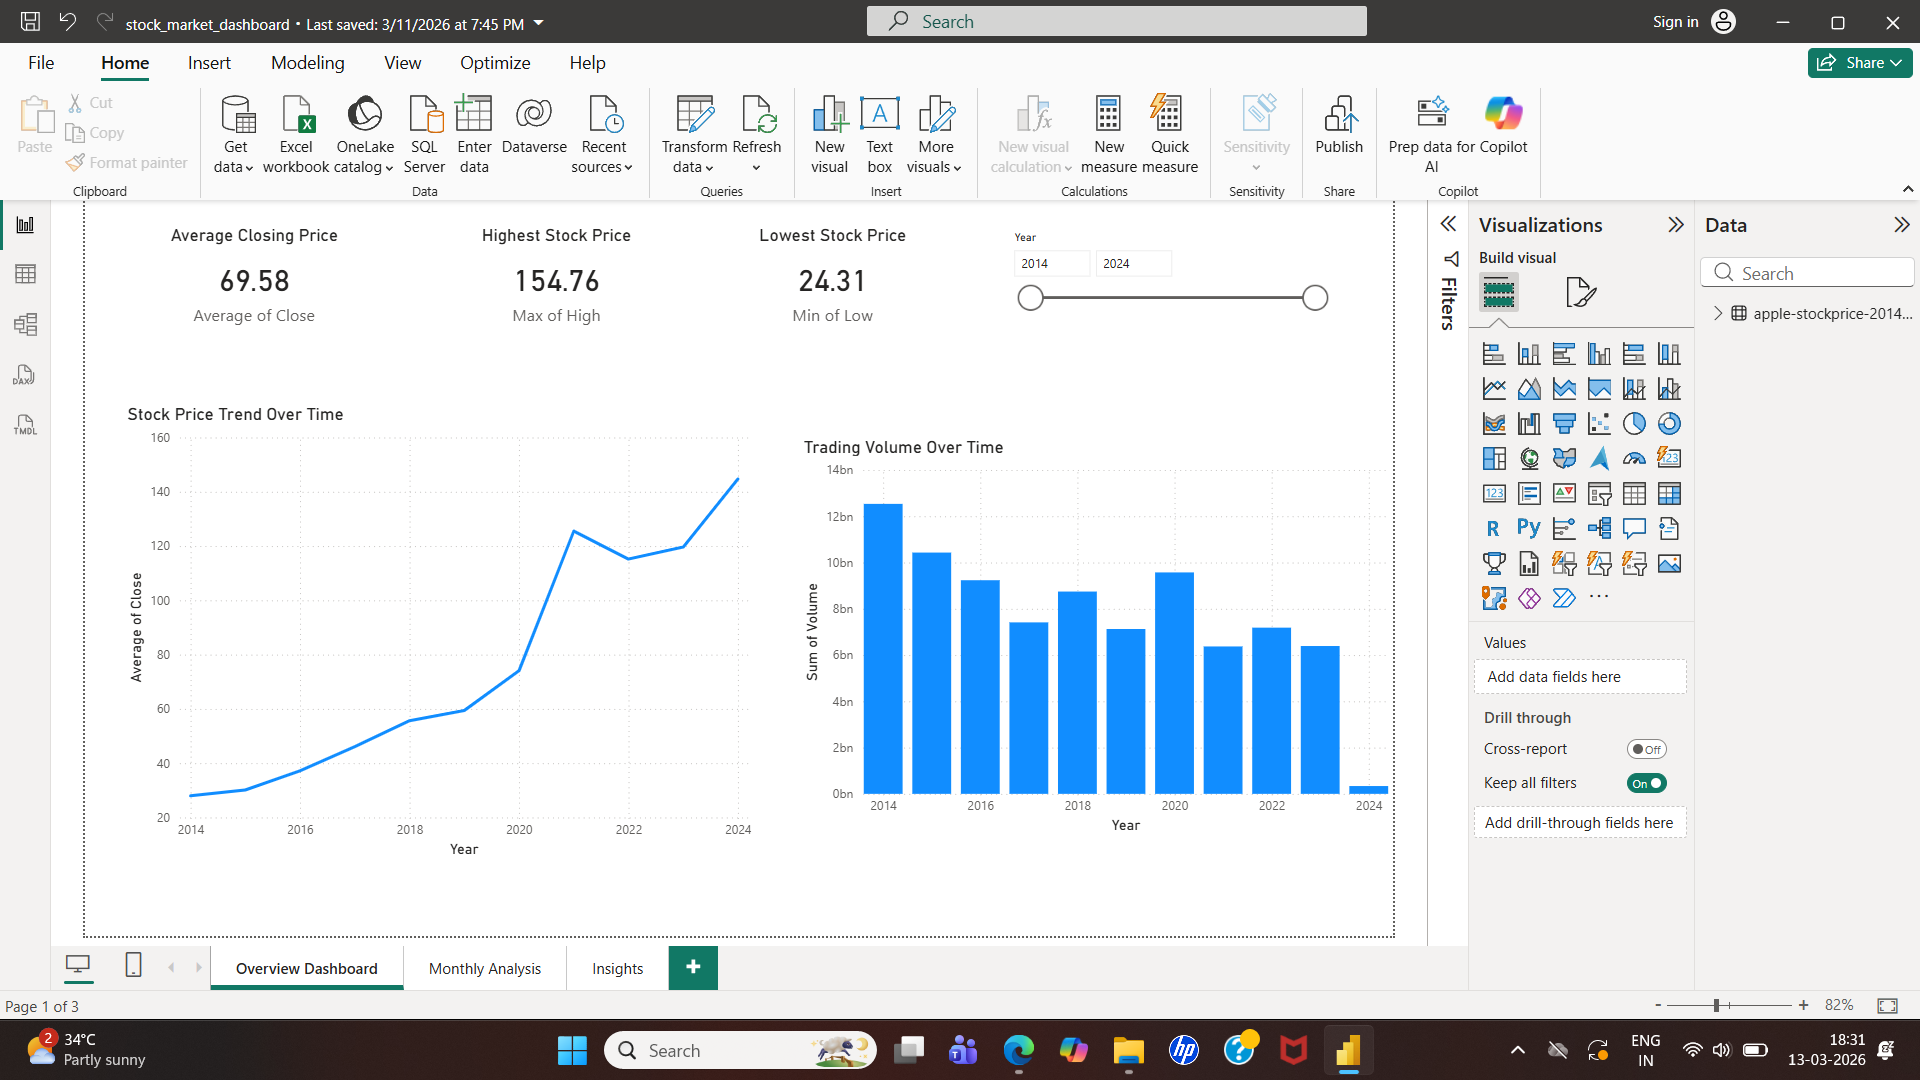

The dashboard page shown, as its layout file describes it:
{"tool":"powerbi","page":{"name":"Overview Dashboard","canvas":[1280,720],"ordinal":0},"visuals":[{"type":"card","title":"Average Closing Price","fields":{"Values":["Avg(apple-stockprice-2014-2024.Close)"]},"box":[52.1,24.7,226.4,108.4],"z":0},{"type":"card","title":"Highest Stock Price","fields":{"Values":["Max(apple-stockprice-2014-2024.High)"]},"box":[351.3,24.7,220.9,108.4],"z":1000},{"type":"card","title":"Lowest Stock Price","fields":{"Values":["Min(apple-stockprice-2014-2024.Low)"]},"box":[610.6,24.7,242.9,108.4],"z":2000},{"type":"lineChart","title":"Stock Price Trend Over Time","fields":{"Category":["apple-stockprice-2014-2024.Date.Variation.Date Hierarchy.Year","apple-stockprice-2014-2024.Date.Variation.Date Hierarchy.Quarter","apple-stockprice-2014-2024.Date.Variation.Date Hierarchy.Month","apple-stockprice-2014-2024.Date.Variation.Date Hierarchy.Day"],"Y":["Avg(apple-stockprice-2014-2024.Close)"]},"box":[37,199,620.2,448.7],"z":2001},{"type":"clusteredColumnChart","title":"Trading Volume Over Time","fields":{"Category":["apple-stockprice-2014-2024.Date.Variation.Date Hierarchy.Year","apple-stockprice-2014-2024.Date.Variation.Date Hierarchy.Quarter","apple-stockprice-2014-2024.Date.Variation.Date Hierarchy.Month","apple-stockprice-2014-2024.Date.Variation.Date Hierarchy.Day"],"Y":["Sum(apple-stockprice-2014-2024.Volume)"]},"box":[698.5,230.5,581.8,393.8],"z":2002},{"type":"slicer","fields":{"Values":["apple-stockprice-2014-2024.Year"]},"box":[896.1,24.7,328,108.4],"z":2003}]}

Visuals, with their boxes on the page's 1280x720 design canvas (x1, y1, x2, y2). These are canvas units, not pixel positions in the 1920x1080 screenshot, which may show the page scaled, cropped or inside an application window:
"Average Closing Price" card: <region>52, 25, 278, 133</region>
"Highest Stock Price" card: <region>351, 25, 572, 133</region>
"Lowest Stock Price" card: <region>611, 25, 854, 133</region>
"Stock Price Trend Over Time" lineChart: <region>37, 199, 657, 648</region>
"Trading Volume Over Time" clusteredColumnChart: <region>698, 230, 1280, 624</region>
slicer - apple-stockprice-2014-2024.Year: <region>896, 25, 1224, 133</region>
